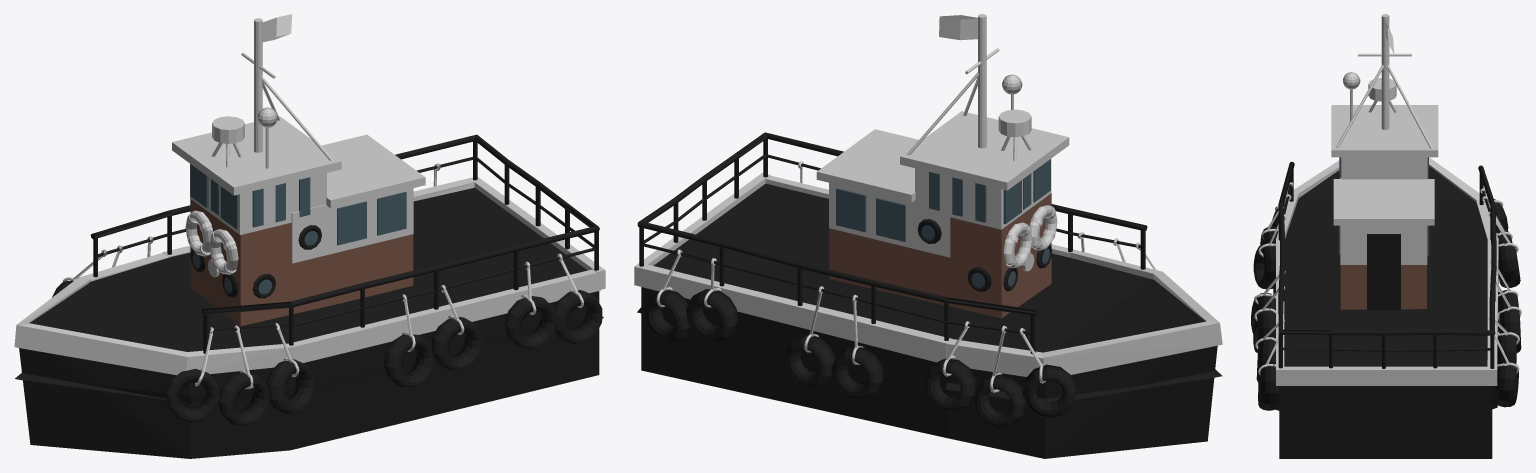
3 views of the same model, side by side, from view 1: azimuth 30°, elevation 25°; view 2: azimuth 150°, elevation 25°; view 3: azimuth 270°, elevation 25° (orthographic). The views are drawn at different scales.
Bounding box in the file's own units: 3.86 × 2.65 × 2.
